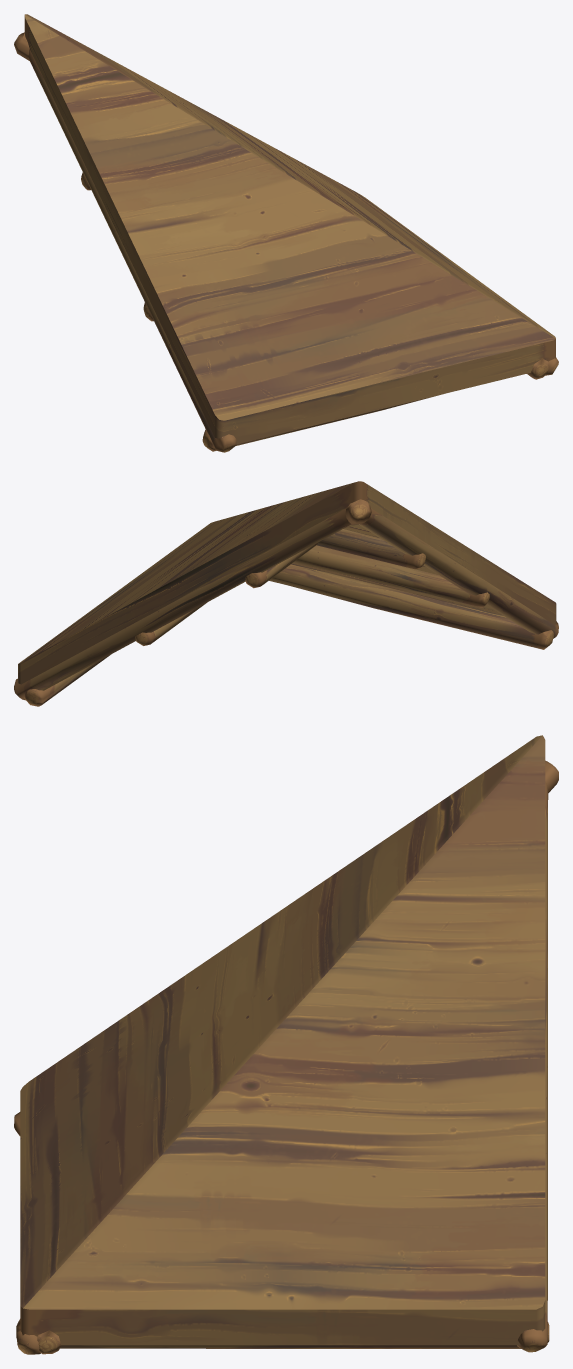
The model's file is SM_MOD_roof_corner_convex_frame_town.fbx.
3 renders of one model, top to bottom at view 1: azimuth 30°, elevation 25°; view 2: azimuth 150°, elevation 25°; view 3: azimuth 270°, elevation 25°, orthographic. The views are drawn at different scales.
Parts seen in each view (by area): view 1: SM_MOD_roof_corner_convex_frame_town_LOD0; view 2: SM_MOD_roof_corner_convex_frame_town_LOD0; view 3: SM_MOD_roof_corner_convex_frame_town_LOD0.
Part boxes in pixels (x1=…): SM_MOD_roof_corner_convex_frame_town_LOD0: x1=14, y1=14, x2=558, y2=452; SM_MOD_roof_corner_convex_frame_town_LOD0: x1=14, y1=481, x2=558, y2=706; SM_MOD_roof_corner_convex_frame_town_LOD0: x1=14, y1=735, x2=558, y2=1354.
Size of what is drawn, in the model's own units: 414 by 338 by 415.
